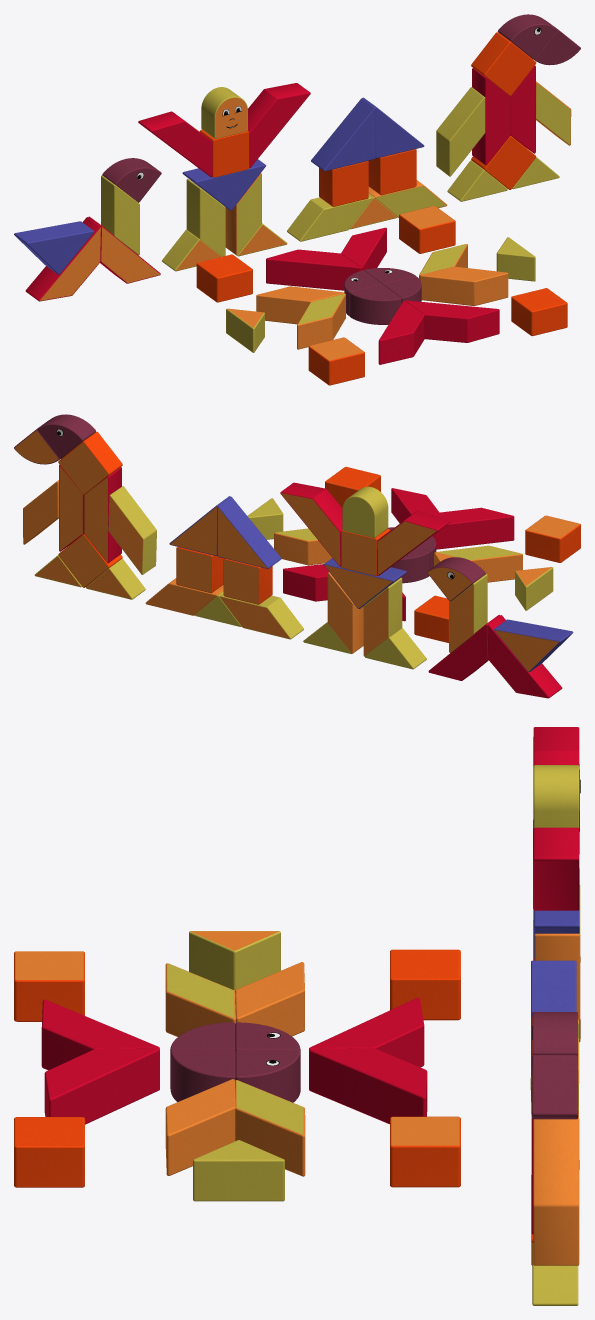
The model's file is unica_matс4d-all-3-opt.glb.
The picture shows the model from 3 angles, top to bottom: view 1: azimuth 30°, elevation 25°; view 2: azimuth 150°, elevation 25°; view 3: azimuth 270°, elevation 25°; orthographic projection. The views are drawn at different scales.
Parts seen in each view (by area): view 1: trapecia.2, kub.1, romb, romb.1, big-treug.2, small-treug, 1/4round (×2), Fill; view 2: trapecia.2, kub.1, romb.1, romb, big-treug.2, small-treug, 1/4round (×2), Fill; view 3: trapecia.2, romb, kub.1, 1/4round (×2), small-treug, big-treug.2, Fill.
Boxes of the visible parts, left/top/right/bottom form: trapecia.2: left=25, top=65, right=535, bottom=364; kub.1: left=196, top=32, right=567, bottom=385; romb: left=225, top=81, right=571, bottom=349; romb.1: left=101, top=87, right=485, bottom=256; big-treug.2: left=14, top=97, right=424, bottom=274; small-treug: left=162, top=157, right=559, bottom=352; 1/4round (×2): left=102, top=14, right=580, bottom=324; Fill: left=201, top=87, right=247, bottom=138; trapecia.2: left=59, top=464, right=562, bottom=698; kub.1: left=58, top=431, right=580, bottom=642; romb.1: left=108, top=486, right=487, bottom=656; romb: left=23, top=480, right=522, bottom=653; big-treug.2: left=169, top=496, right=573, bottom=672; small-treug: left=34, top=498, right=553, bottom=669; 1/4round (×2): left=14, top=414, right=485, bottom=601; Fill: left=342, top=486, right=388, bottom=537; trapecia.2: left=41, top=727, right=579, bottom=1234; romb: left=165, top=933, right=580, bottom=1265; kub.1: left=14, top=820, right=578, bottom=1265; 1/4round (×2): left=170, top=769, right=579, bottom=1119; small-treug: left=189, top=931, right=579, bottom=1305; big-treug.2: left=531, top=764, right=579, bottom=1076; Fill: left=533, top=765, right=579, bottom=828.
Bounding box in the file's own units: 362 × 101 × 191.
Materials: 11 (9 with a texture image).
